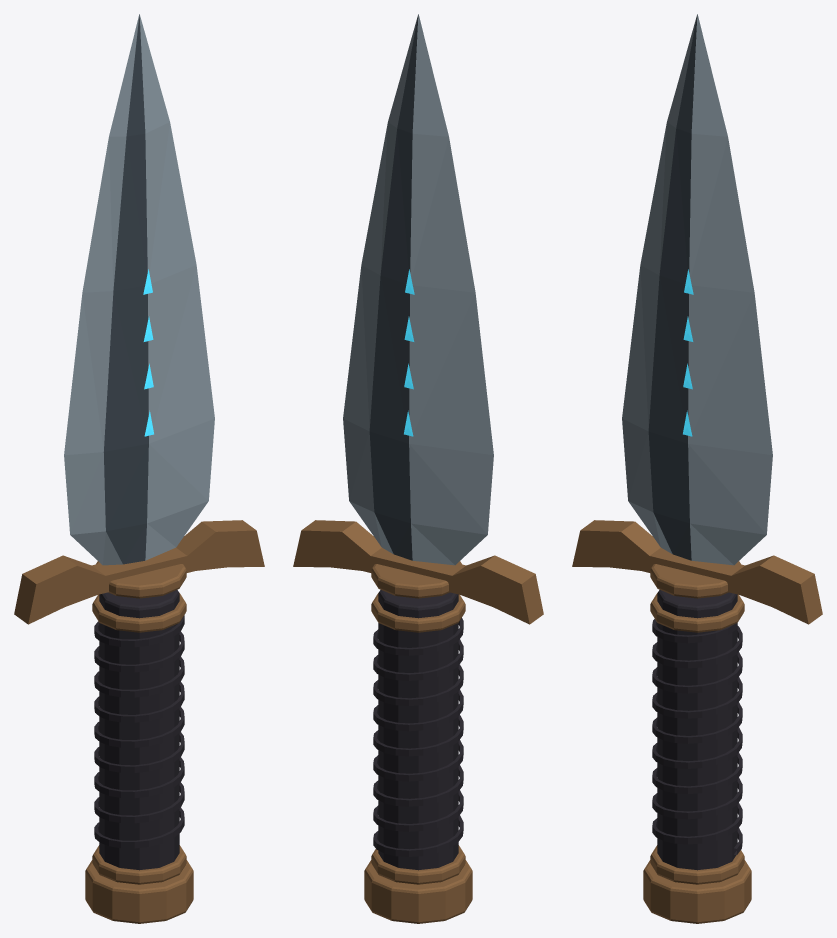
Rendered from KeikoThrowingDagger.fbx.
3 views of the same model, side by side, from view 1: azimuth 30°, elevation 25°; view 2: azimuth 150°, elevation 25°; view 3: azimuth 330°, elevation 25° (orthographic).
Visible parts, largest first — view 1: KeikoThrowingDagger; view 2: KeikoThrowingDagger; view 3: KeikoThrowingDagger.
Part boxes in pixels (<box>): KeikoThrowingDagger: <box>14,14,264,923</box>; KeikoThrowingDagger: <box>293,14,543,923</box>; KeikoThrowingDagger: <box>572,14,822,923</box>.
Size of the model in its own units: 0.058 by 0.208 by 0.023.
